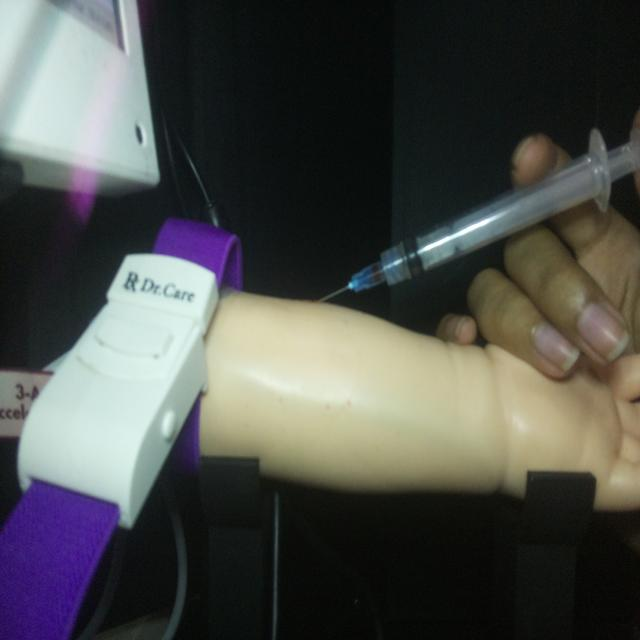17 degrees: (314, 124, 638, 306)
